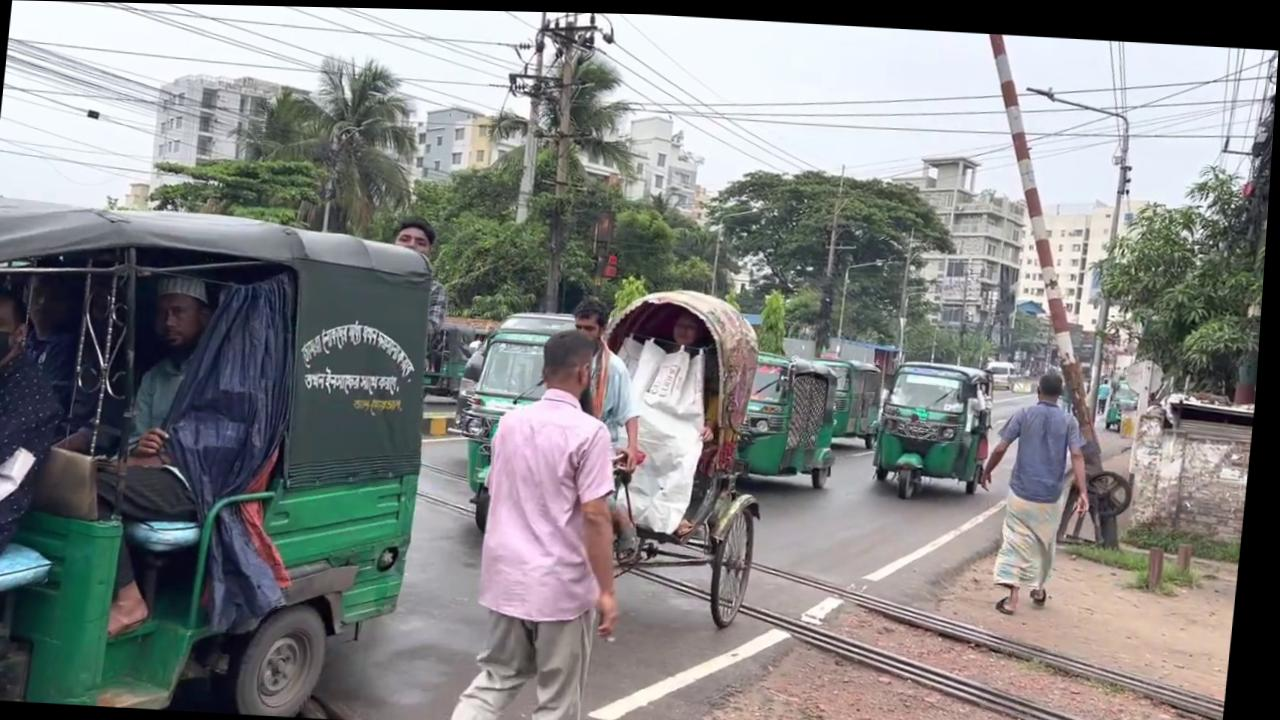Fence: (457, 322, 652, 720), (975, 364, 1106, 613), (0, 284, 81, 575), (385, 214, 458, 371)
Garbage: (944, 30, 1150, 538)
Motorcycle: (400, 429, 1253, 720)
Pole: (605, 249, 623, 276)
Railroad-crossing: (226, 46, 431, 236)
Rickshaw: (0, 194, 450, 718)
